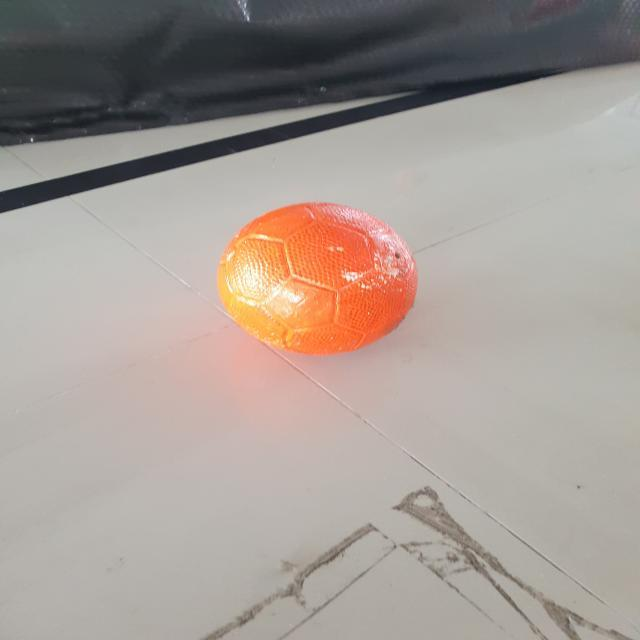bola: (218, 202, 424, 362)
